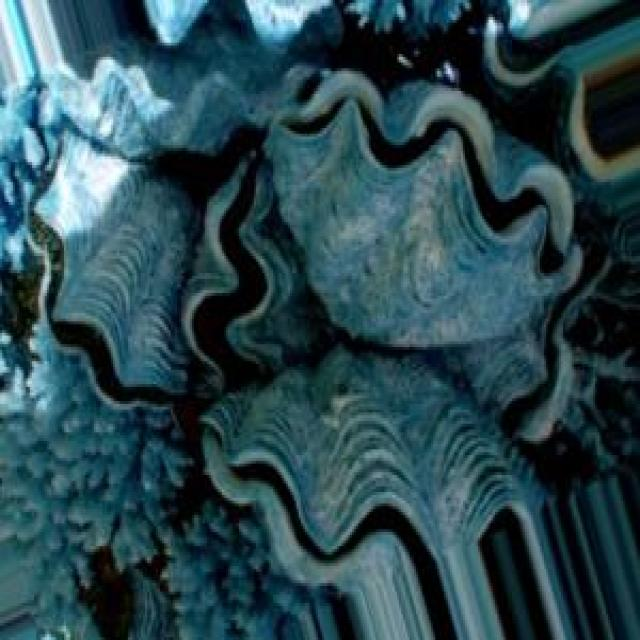Healthy: (266, 4, 640, 349), (209, 348, 534, 589), (36, 131, 197, 404), (159, 74, 272, 401)
